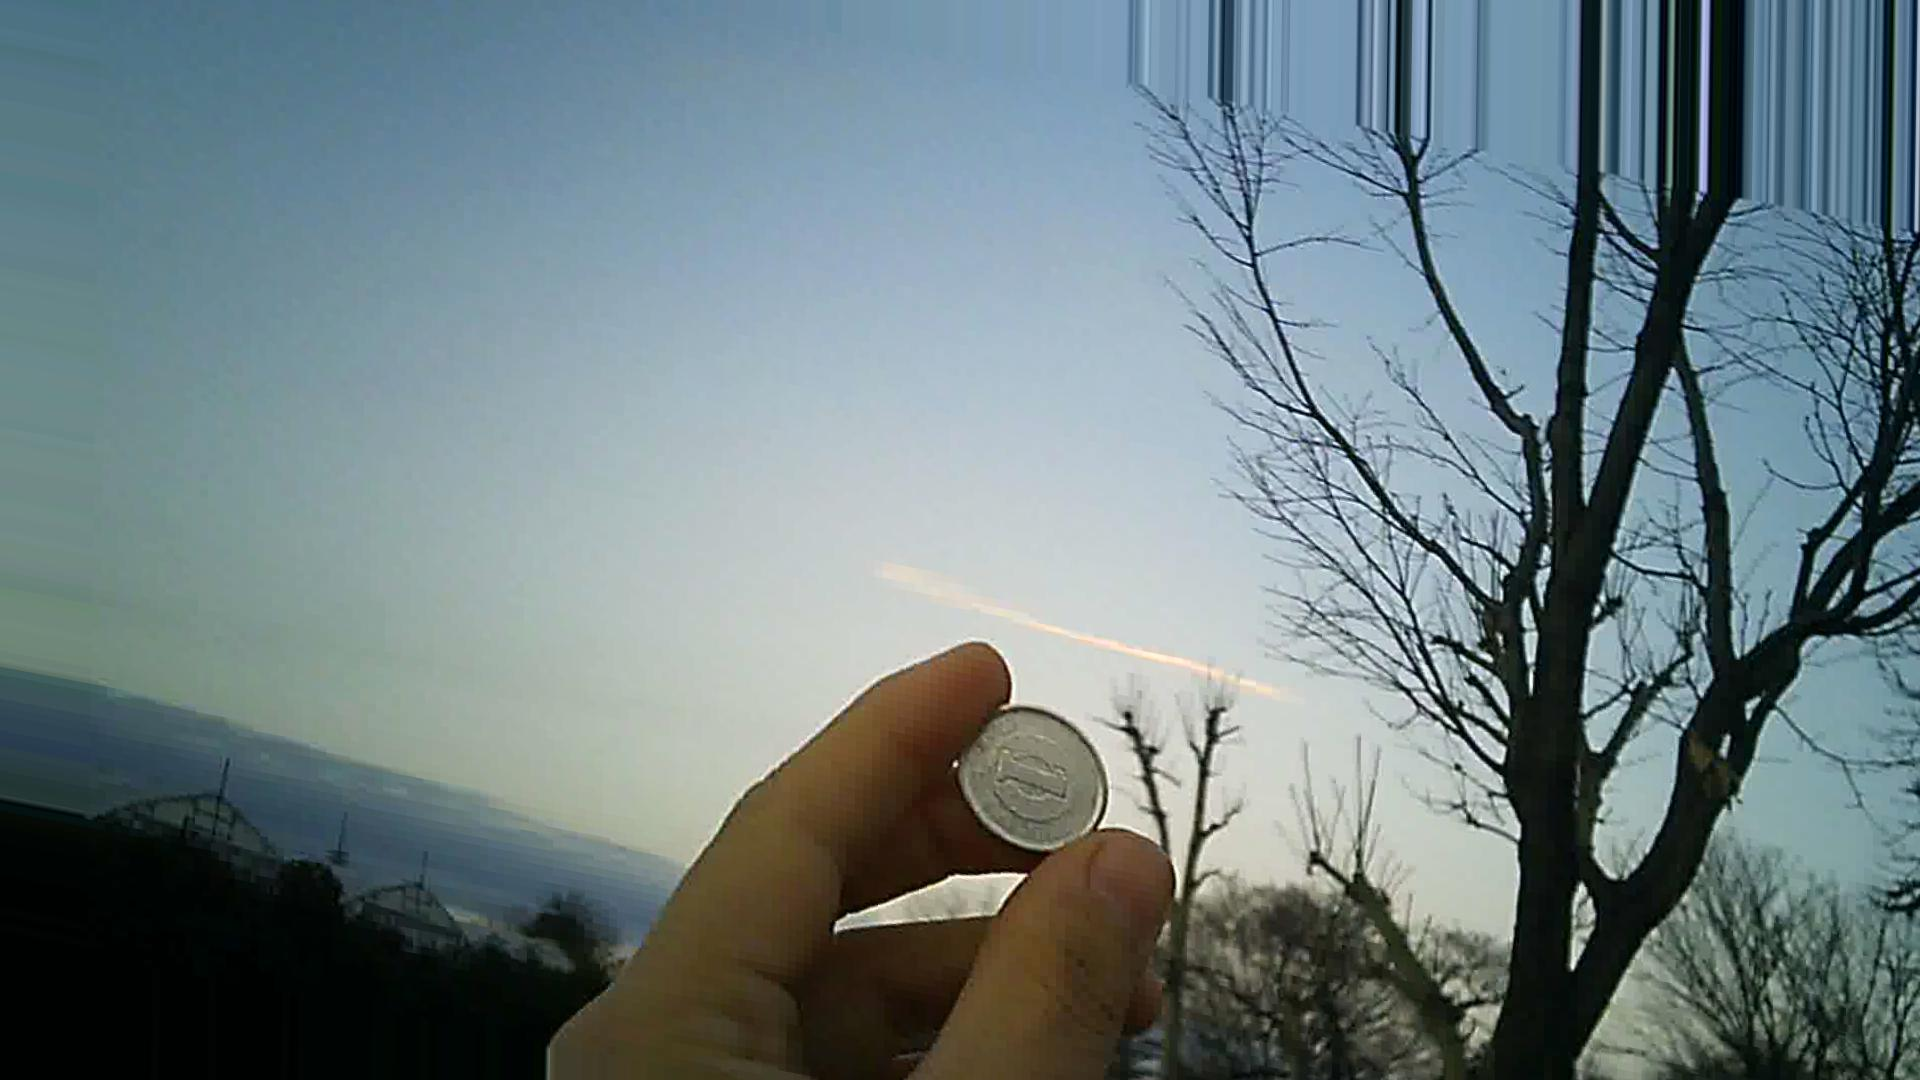1 Yen: (949, 700, 1106, 855)
